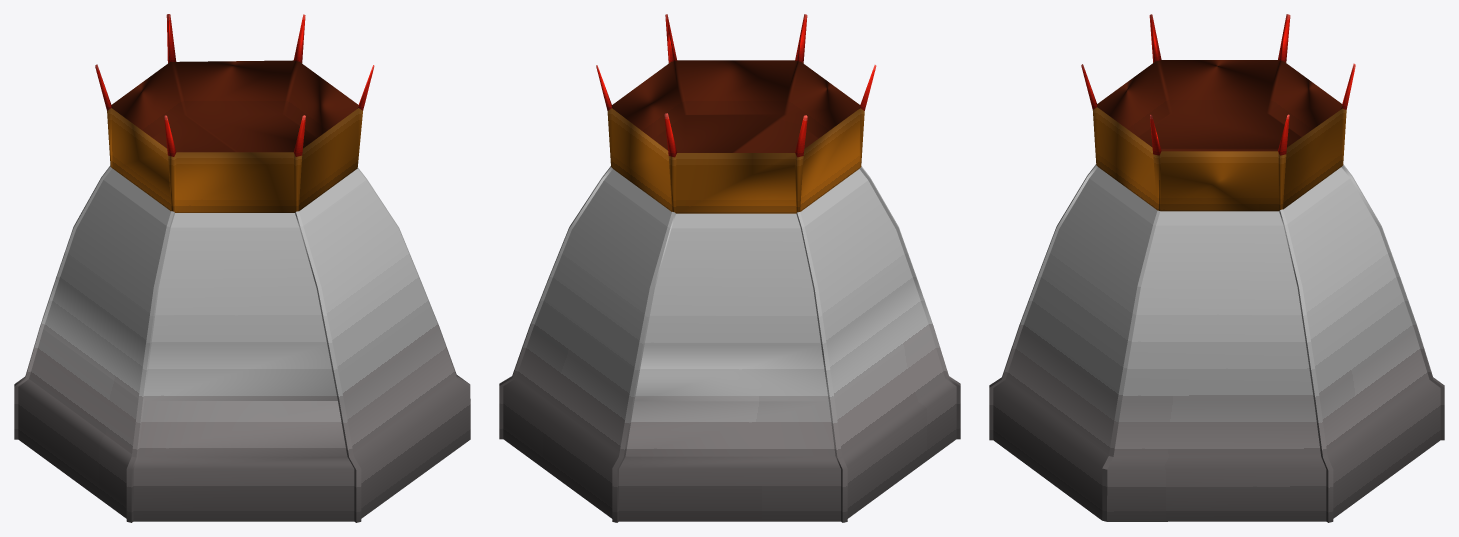
The model's file is WallTowerSecondCol.fbx.
3 renders of one model, left to right at view 1: azimuth 30°, elevation 25°; view 2: azimuth 150°, elevation 25°; view 3: azimuth 270°, elevation 25°, orthographic.
Parts seen in each view (by area): view 1: Hexagon.001; view 2: Hexagon.001; view 3: Hexagon.001.
Boxes of the visible parts, x1,y1,x2,y2 form: Hexagon.001: (14, 14, 470, 522); Hexagon.001: (499, 14, 960, 522); Hexagon.001: (989, 14, 1444, 522).
Size of the model in its own units: 92.3 by 95.47 by 106.
